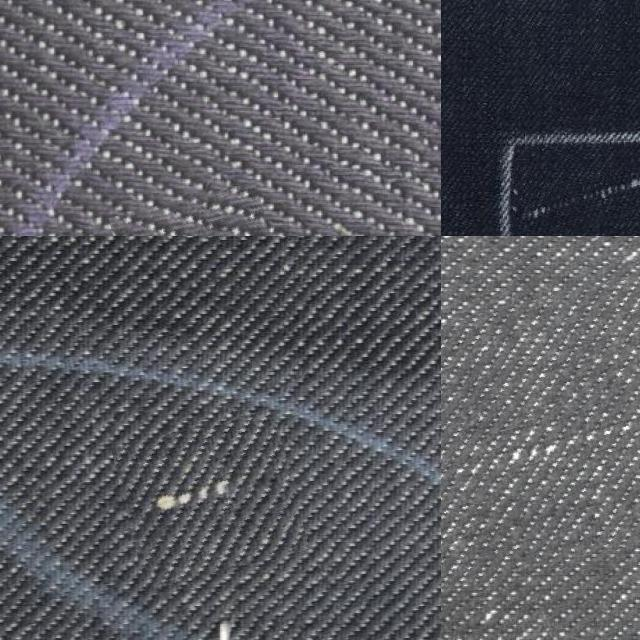stains: (441, 236, 640, 562), (117, 417, 301, 581), (508, 170, 640, 234)
